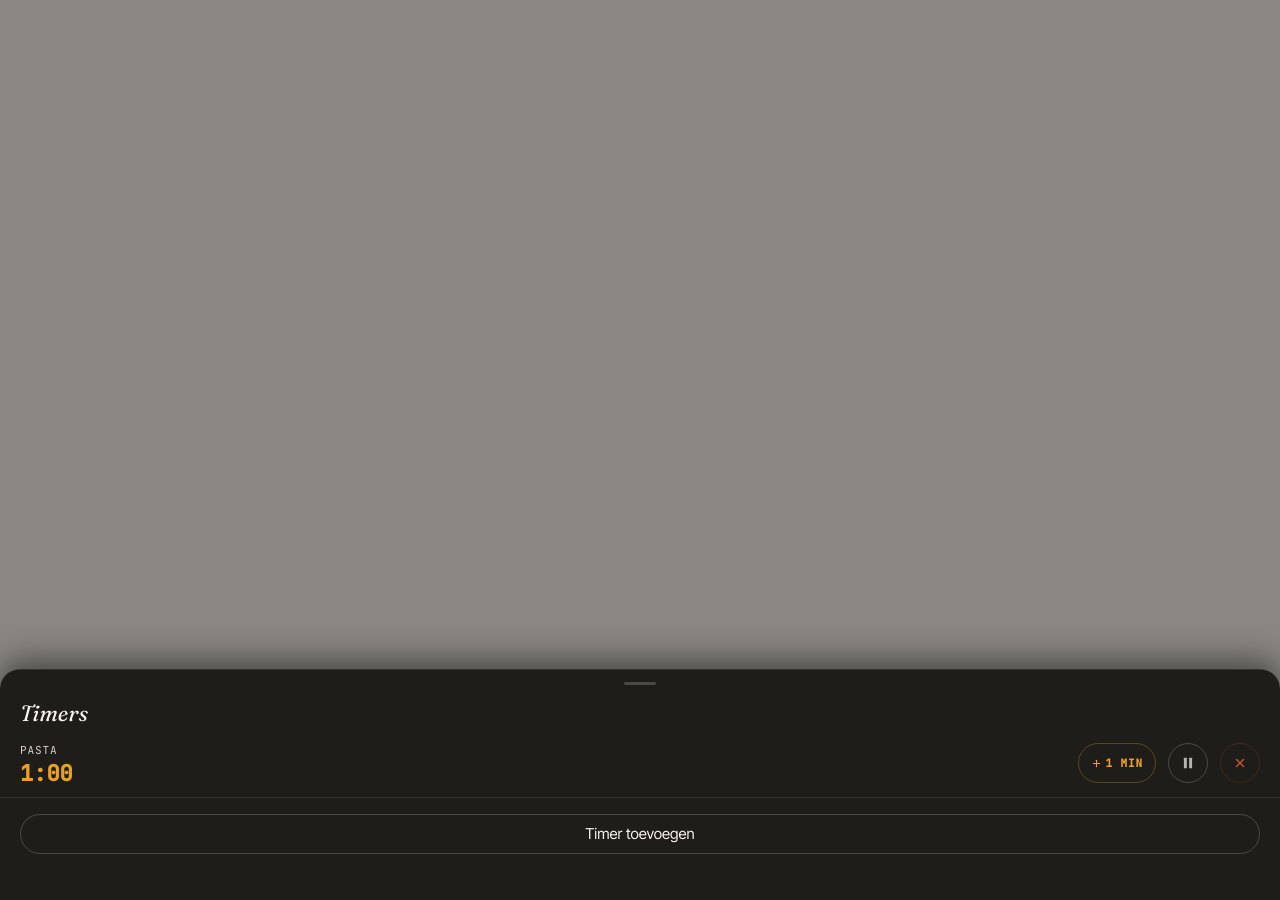
Scenario: TimerSheet › +1 min button › adds a minute to a running timer when clicked
Expected: the text "1:00" is shown, [20,763,73,785]
Click the button with aria-label "Een minuut toevoegen" at (1117, 763), box [1078,743,1156,783]
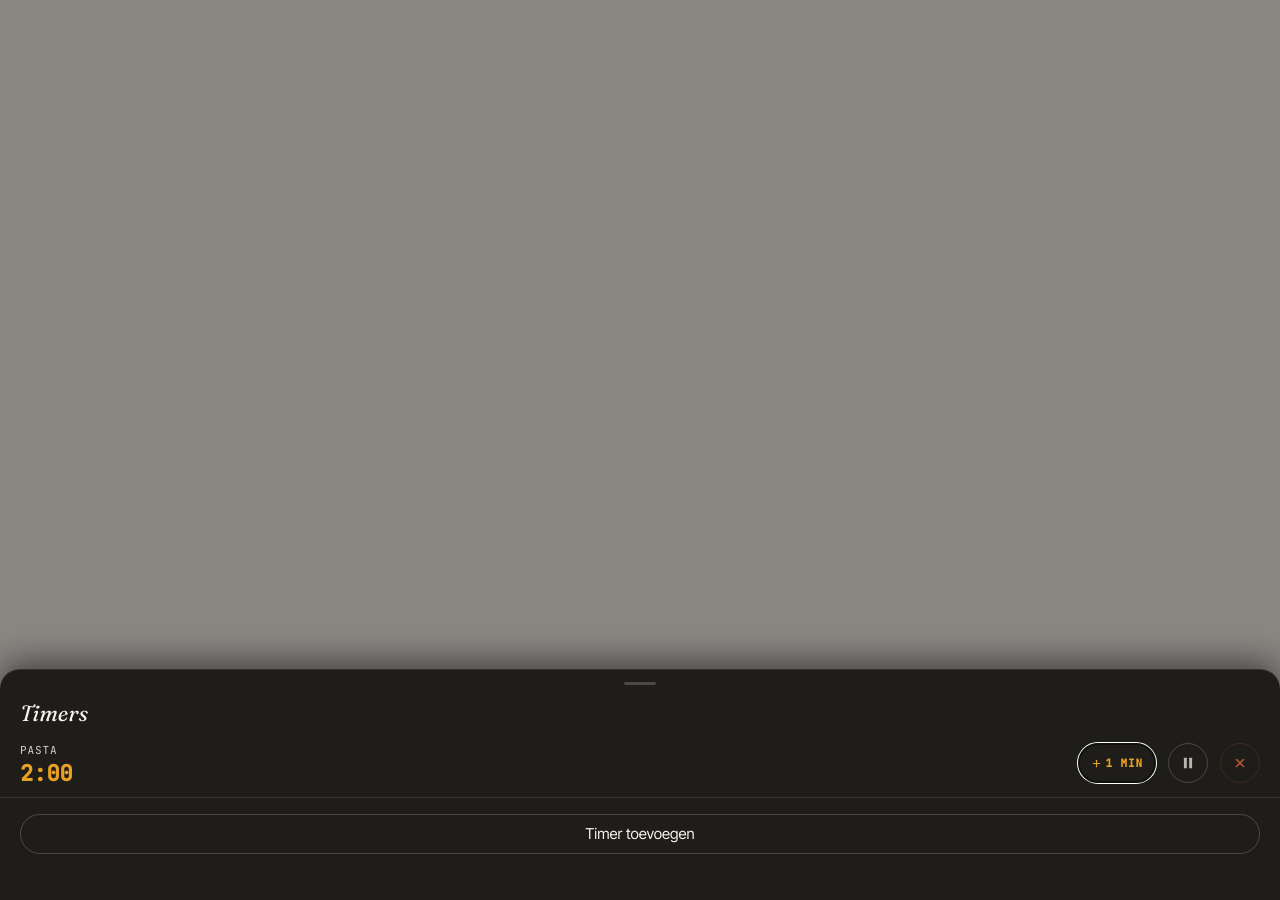
Expected: the text "2:00" is shown, [20,763,73,785]
